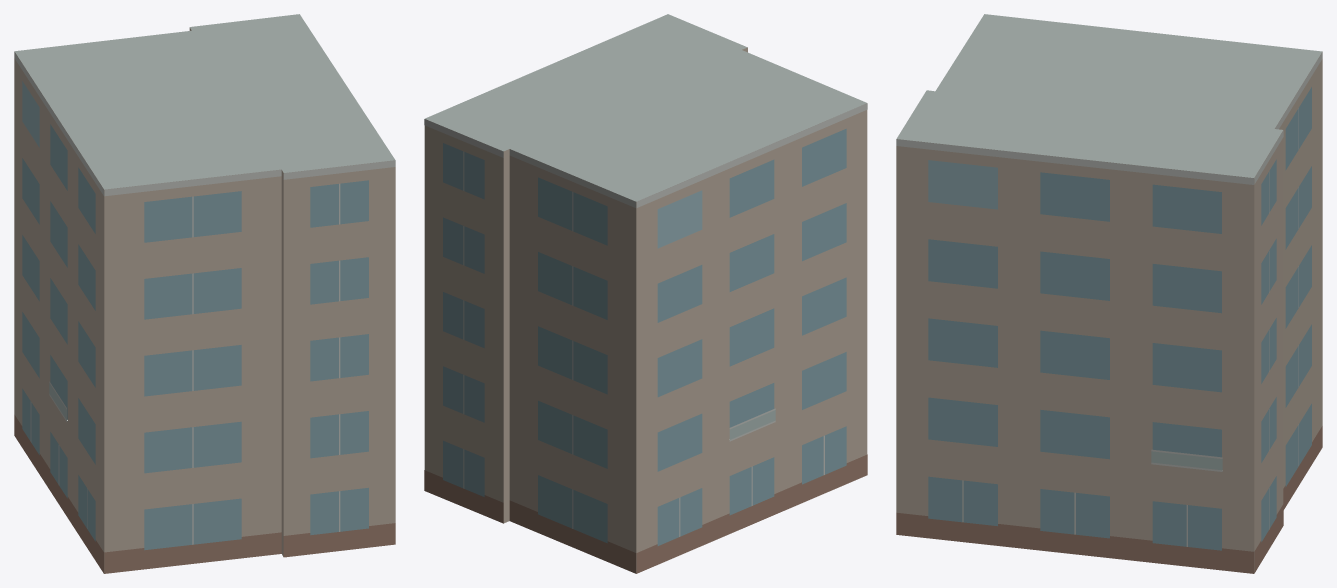
Rendered from survey-upis-32700427.glb.
The picture shows the model from 3 angles, left to right: view 1: azimuth 30°, elevation 25°; view 2: azimuth 150°, elevation 25°; view 3: azimuth 270°, elevation 25°; orthographic projection. The views are drawn at different scales.
Parts seen in each view (by area): view 1: survey-upis-32700427.tmp; view 2: survey-upis-32700427.tmp; view 3: survey-upis-32700427.tmp.
Part boxes in pixels (x1,y1,x2,y2): survey-upis-32700427.tmp: (14,14,395,573); survey-upis-32700427.tmp: (424,14,867,573); survey-upis-32700427.tmp: (896,14,1322,573).
Bounding box in the file's own units: 12.37 × 13.9 × 13.58.
